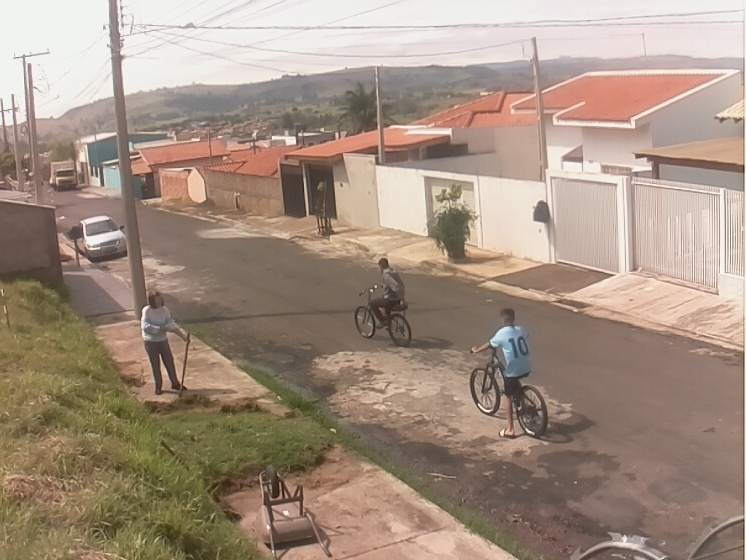person: (469, 307, 529, 439), (139, 289, 187, 395), (368, 258, 405, 330)
